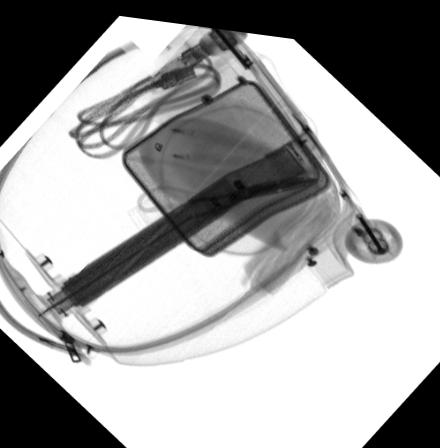Scissors: (132, 166, 315, 247)
